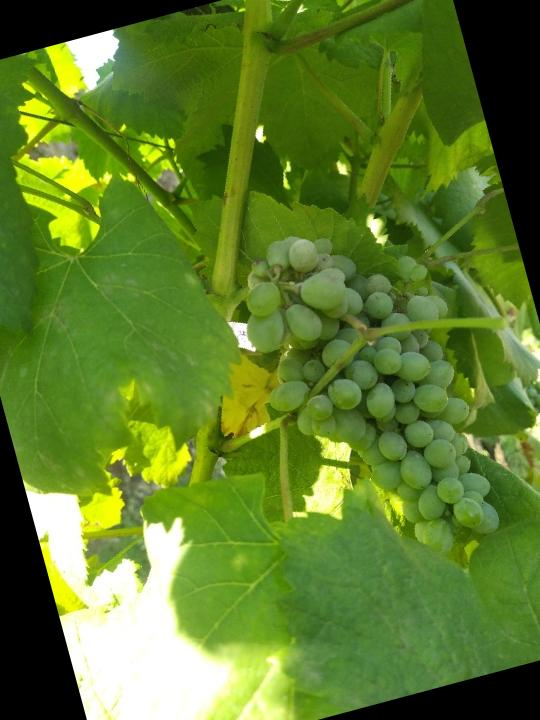grape: (226, 204, 510, 584)
